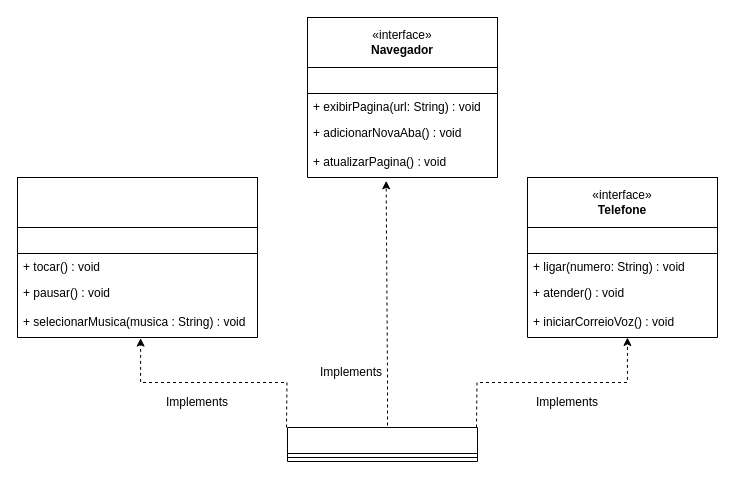
Image size: 735x479. Some labels were removed from this diagram. Each missing label, with the centre of its shape:
"Iphone" goes at [382,444].
"«interface» ReprodutorMusical" goes at [137,202].
